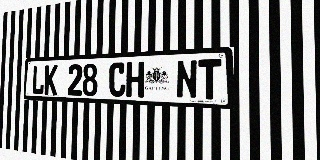2: (68, 64, 83, 96)
8: (82, 63, 98, 96)
C: (109, 62, 126, 97)
H: (126, 62, 144, 98)
K: (44, 65, 58, 95)
L: (32, 65, 45, 95)
N: (176, 60, 198, 99)
T: (198, 59, 221, 100)
